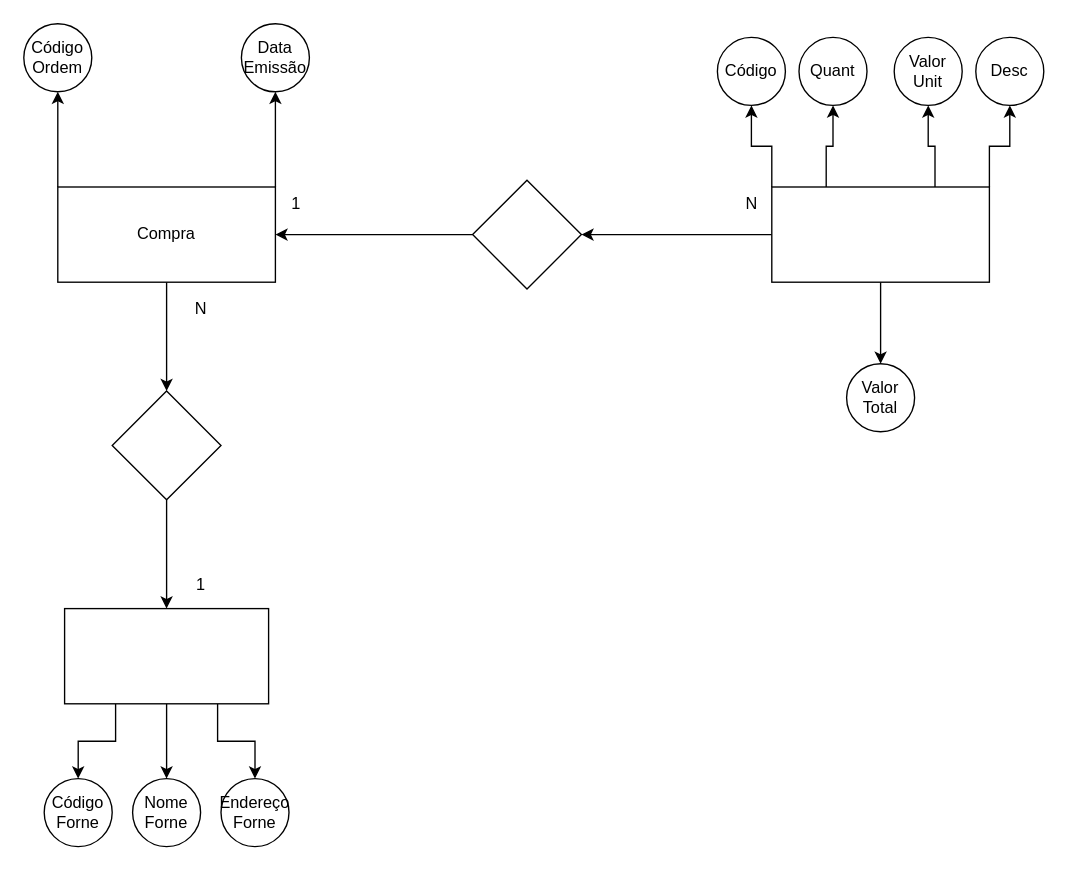
Image size: 1068x870. Some labels were removed from this diagram. Here are the shapes that lost their labels. From the top down, the centre of each, then its label:
the point at 526,234: Contém
the point at 879,234: Materiais
the point at 166,445: Possui
the point at 166,655: Fornecedor
